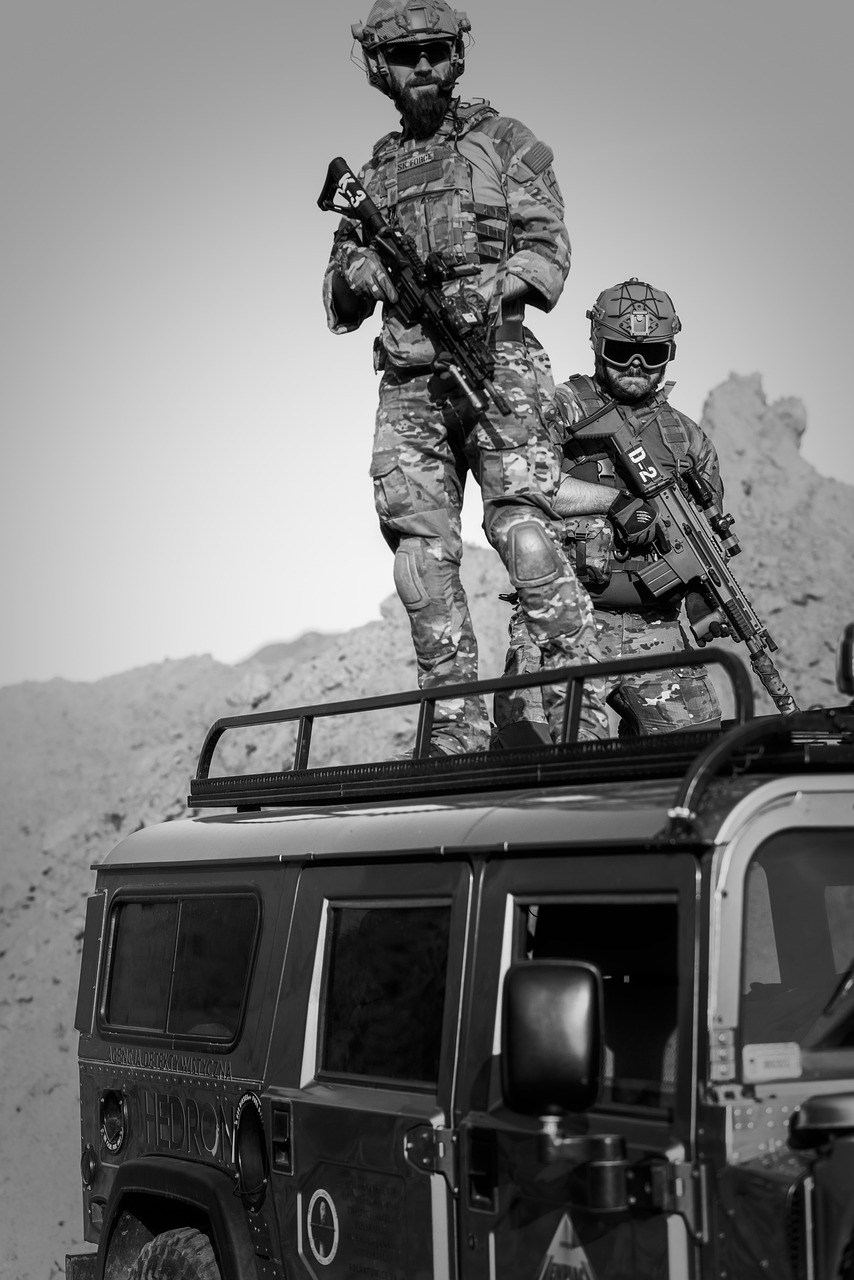gun: (560, 393, 802, 721), (311, 150, 519, 421)
